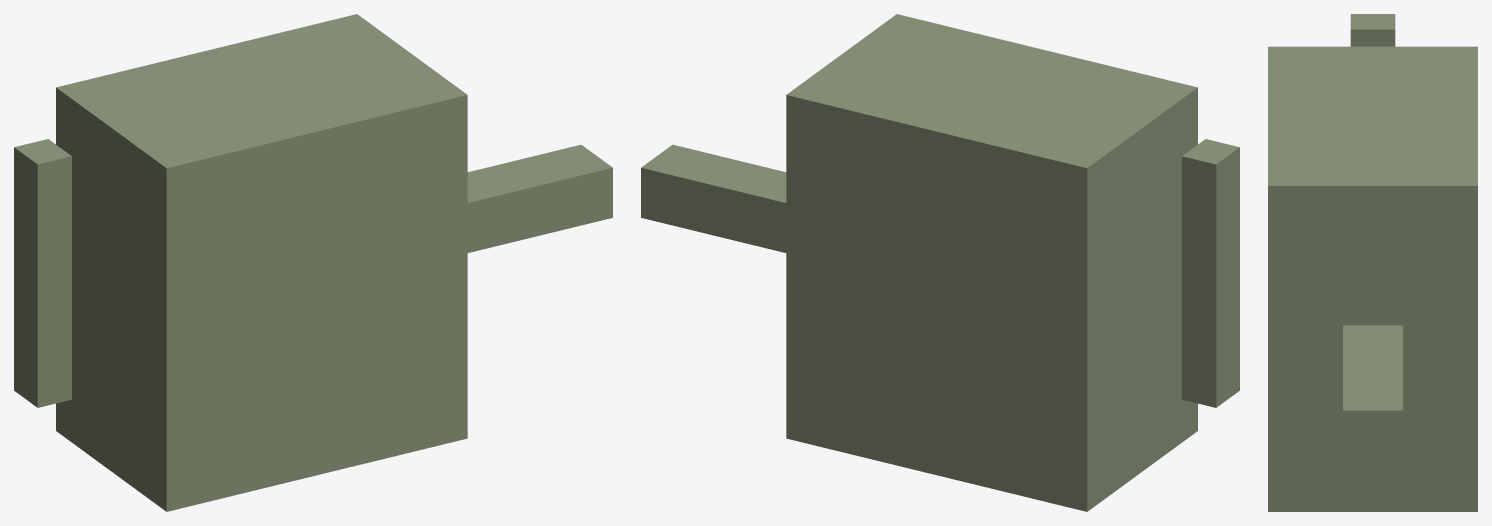
The model's file is watering_can.glb.
3 renders of one model, left to right at view 1: azimuth 30°, elevation 25°; view 2: azimuth 150°, elevation 25°; view 3: azimuth 270°, elevation 25°, orthographic. The views are drawn at different scales.
Parts seen in each view (by area): view 1: body; view 2: body; view 3: body.
Boxes of the visible parts, bbox=[...] form: body: bbox=[14, 14, 612, 511]; body: bbox=[641, 14, 1239, 511]; body: bbox=[1268, 14, 1477, 511].
Bounding box in the file's own units: 0.4175 × 0.24 × 0.14.
